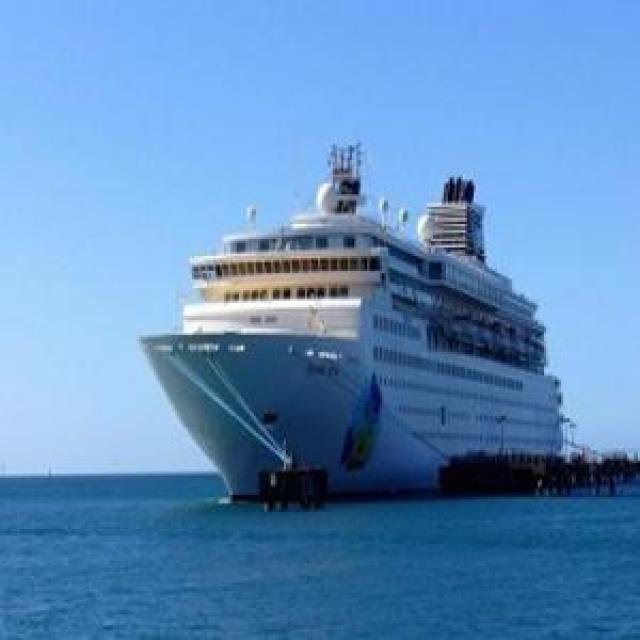passenger ship: (141, 151, 570, 494)
